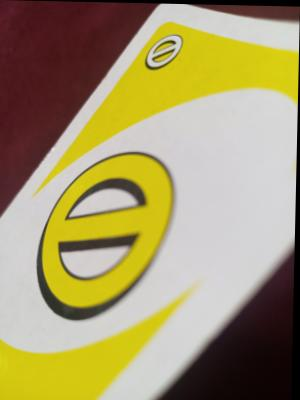skip: (143, 30, 186, 71)
yellow: (56, 74, 250, 337)
